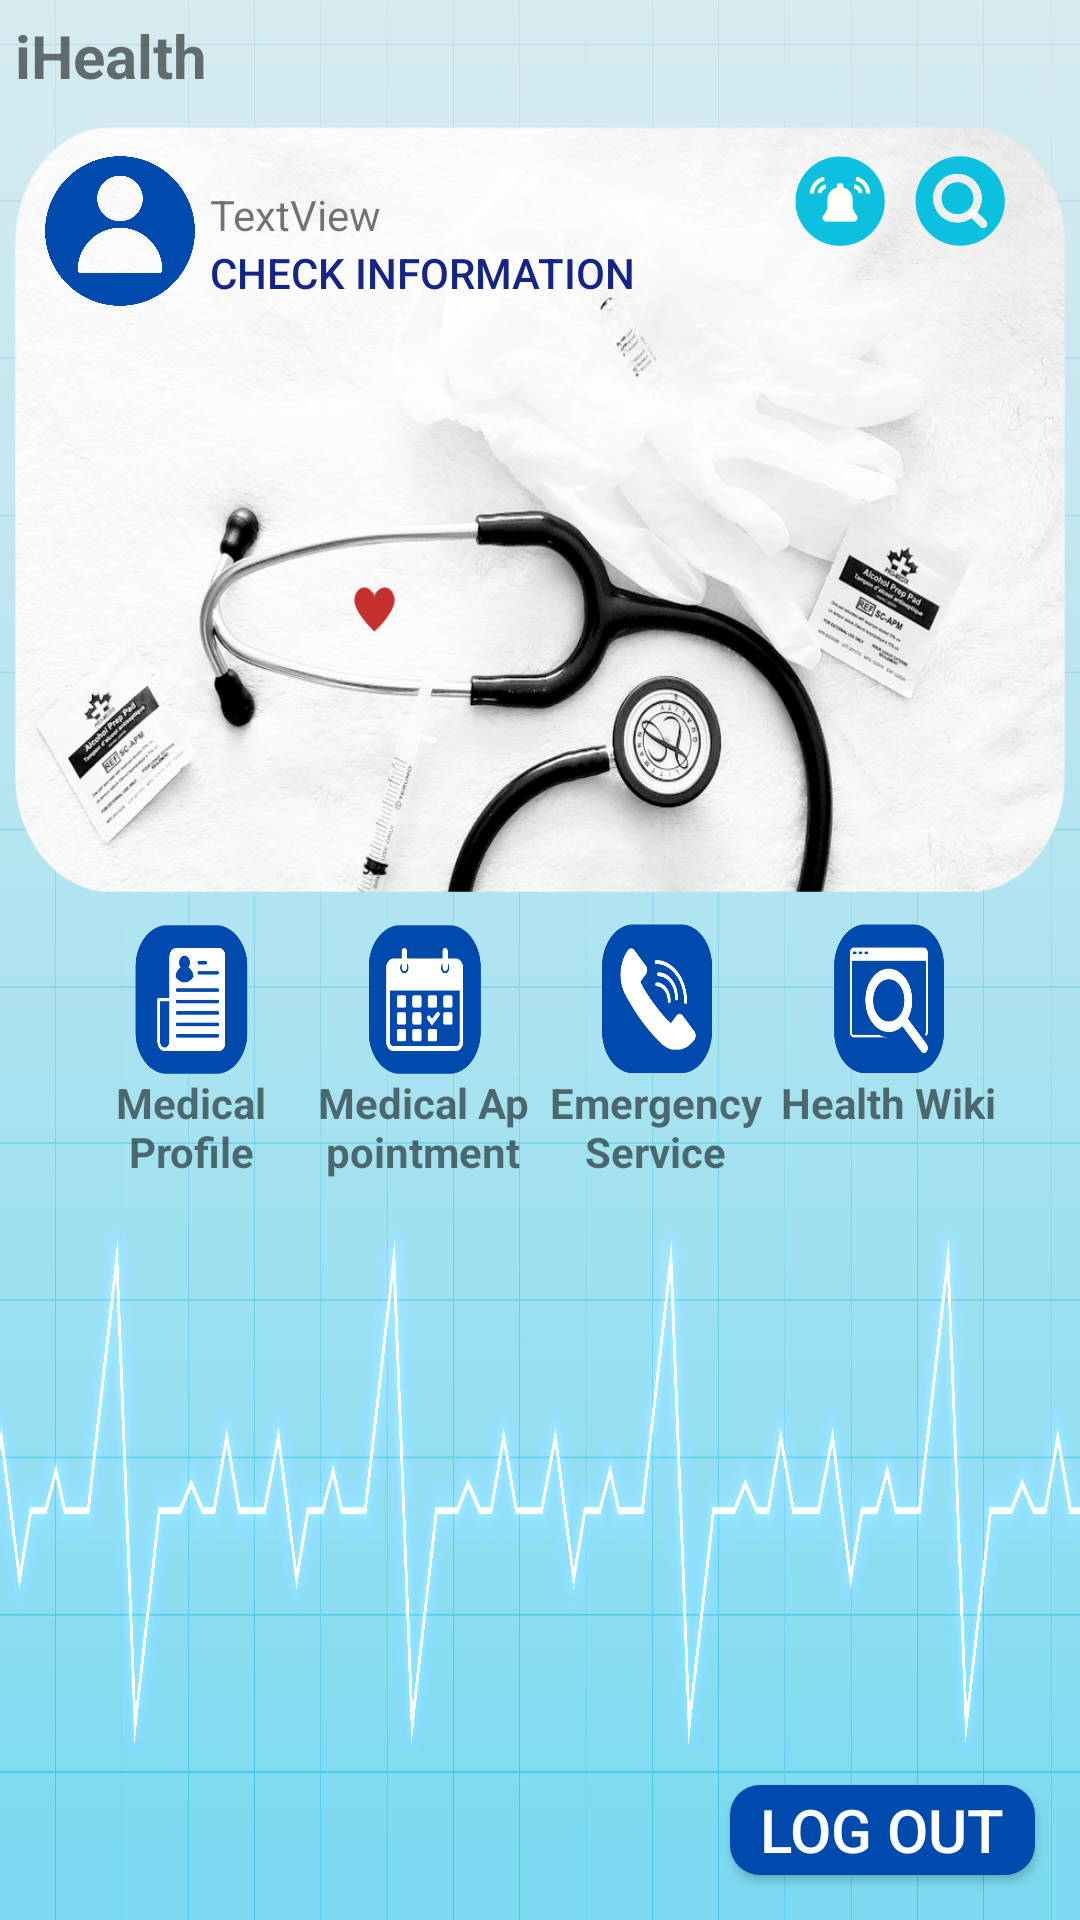

Icon click points for this 1080×1920 phone screenshot, format [x,y]:
phone: [657,999]
schedual: [424,999]
user: [120,231]
